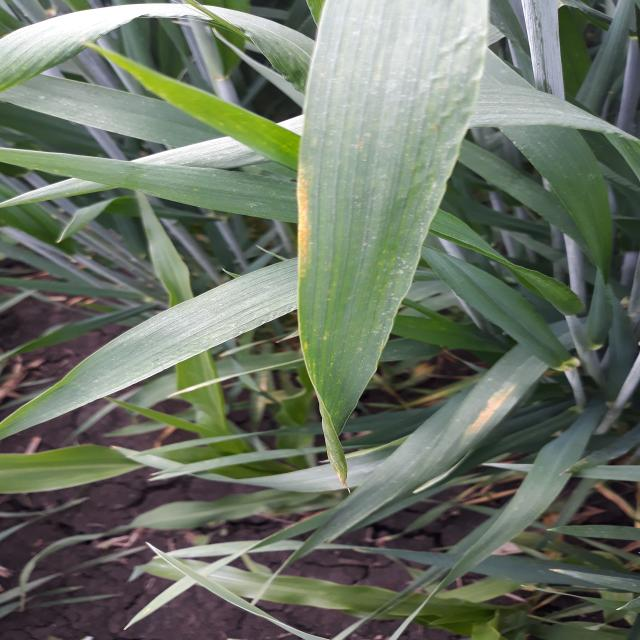yellow_rust: (281, 153, 460, 494), (442, 366, 540, 467)
